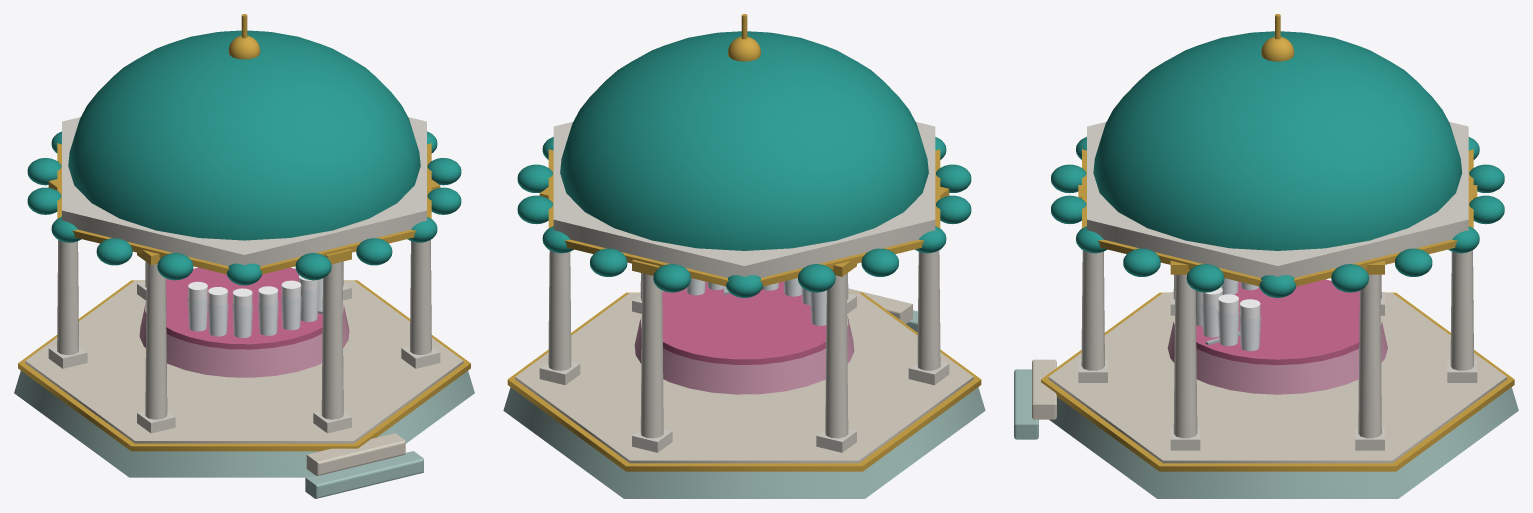
The model's file is glassPavilion.glb.
3 renders of one model, left to right at view 1: azimuth 30°, elevation 25°; view 2: azimuth 150°, elevation 25°; view 3: azimuth 270°, elevation 25°, orthographic. The views are drawn at different scales.
Visible parts, largest first — view 1: part_000, part_010, part_008, part_006, part_004, part_002, part_012, part_007, part_001, part_003, part_009, part_005 (+1 smaller); view 2: part_000, part_002, part_001; view 3: part_000, part_016, part_014, part_012, part_015, part_013, part_011.
Boxes of the visible parts, box(x1,y1,x2,y2) form: part_000: box(14, 14, 474, 498); part_010: box(281, 280, 301, 330); part_008: box(258, 286, 278, 335); part_006: box(233, 288, 252, 337); part_004: box(208, 287, 227, 336); part_002: box(188, 281, 207, 331); part_012: box(299, 275, 318, 321); part_007: box(257, 301, 279, 335); part_001: box(187, 297, 208, 331); part_003: box(207, 302, 228, 336); part_009: box(280, 296, 302, 329); part_005: box(232, 304, 253, 337); part_000: box(503, 14, 985, 498); part_002: box(810, 290, 826, 325); part_001: box(809, 291, 826, 325); part_000: box(1014, 14, 1518, 498); part_016: box(1239, 299, 1260, 350); part_014: box(1218, 294, 1238, 345); part_012: box(1202, 287, 1222, 337); part_015: box(1238, 315, 1261, 350); part_013: box(1217, 310, 1239, 345); part_011: box(1201, 302, 1218, 337).
Bounding box in the file's own units: 7.74 × 7.35 × 8.48.
